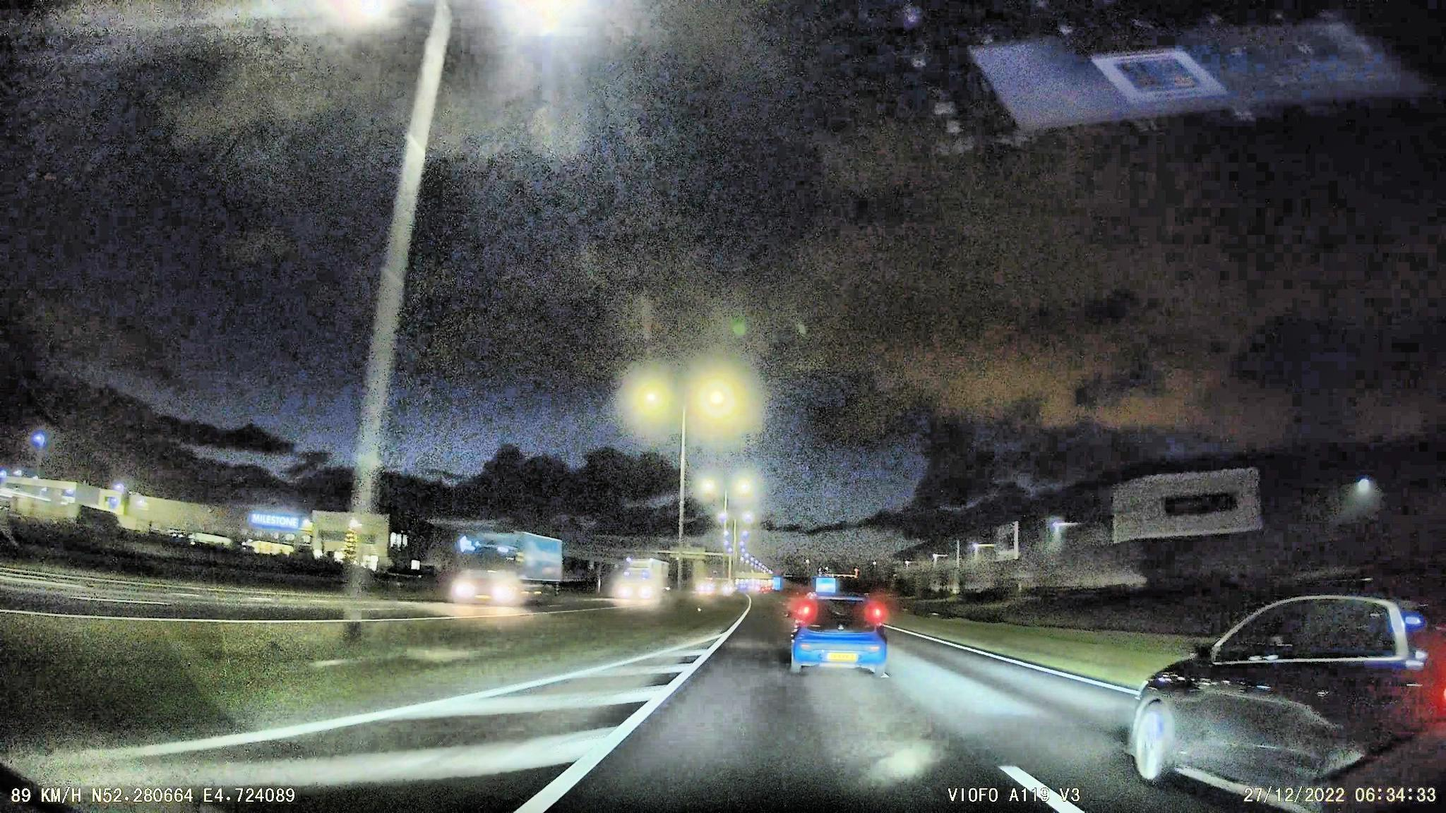Roads: (36, 607, 1446, 813)
